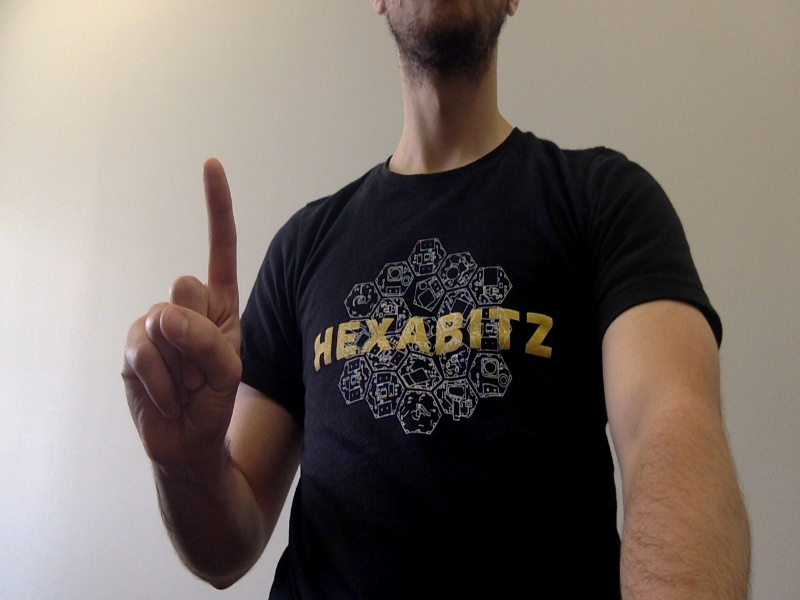1-hand: (123, 158, 241, 465)
